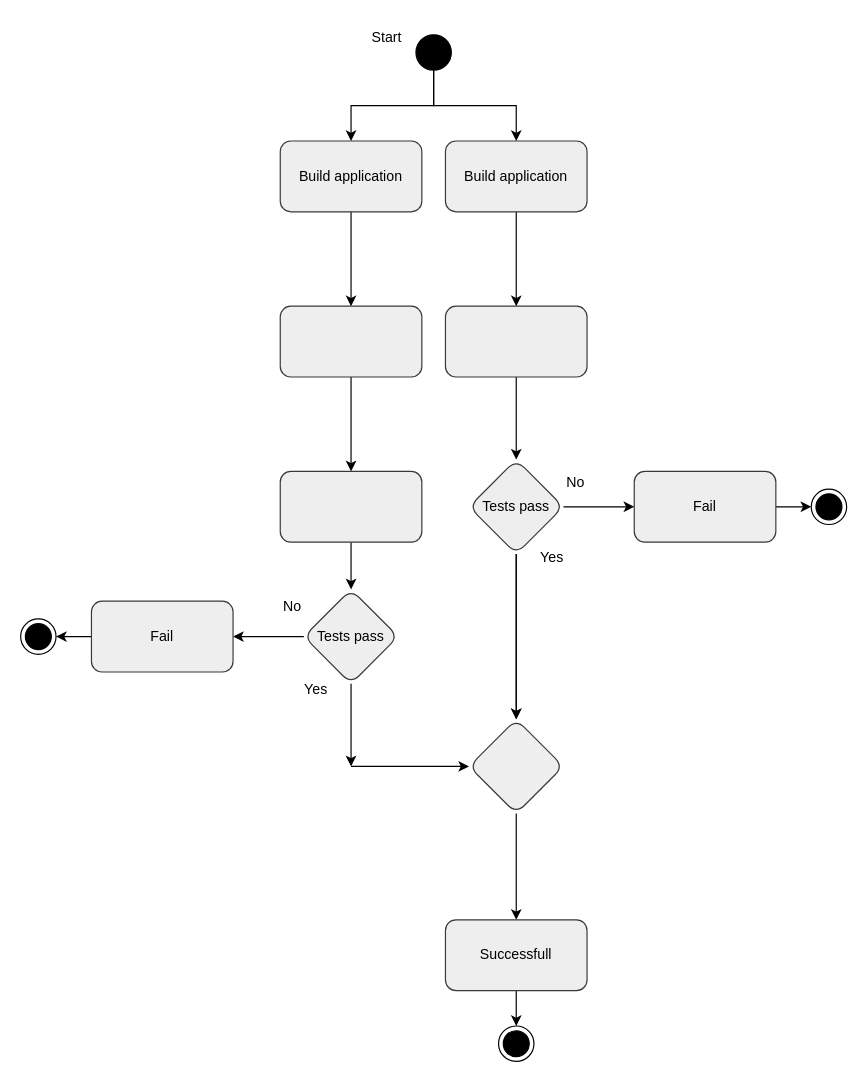
This 867x1082 diagram has some shape labels left out. The centre of each missing label's shape, as x and y in pixels:
"All tests pass" belongs at (515,766).
"Download Playwright browsers" belongs at (350,341).
"Run Playwright tests" belongs at (350,506).
"Run tests" belongs at (515,341).
